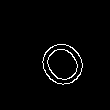O_NW: (23, 22, 87, 88)
